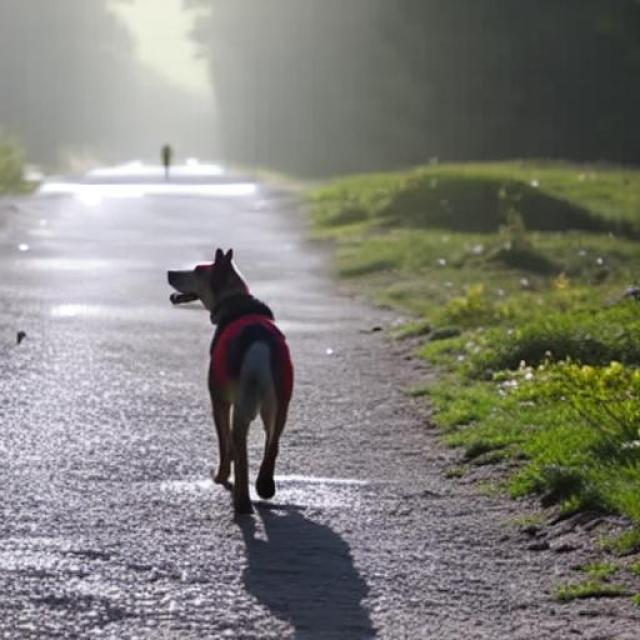Dog: (167, 248, 294, 513)
